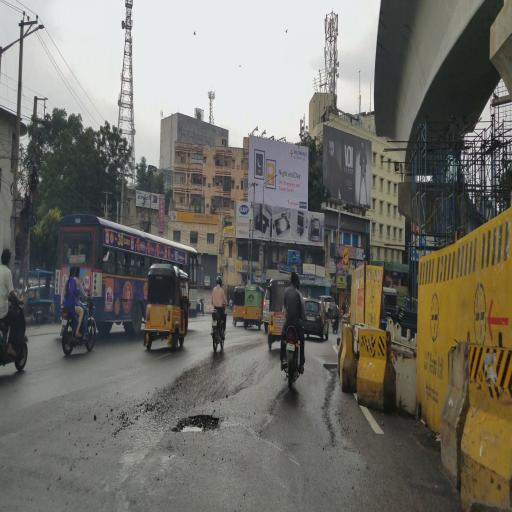street_light_0: (3, 23, 50, 49)
